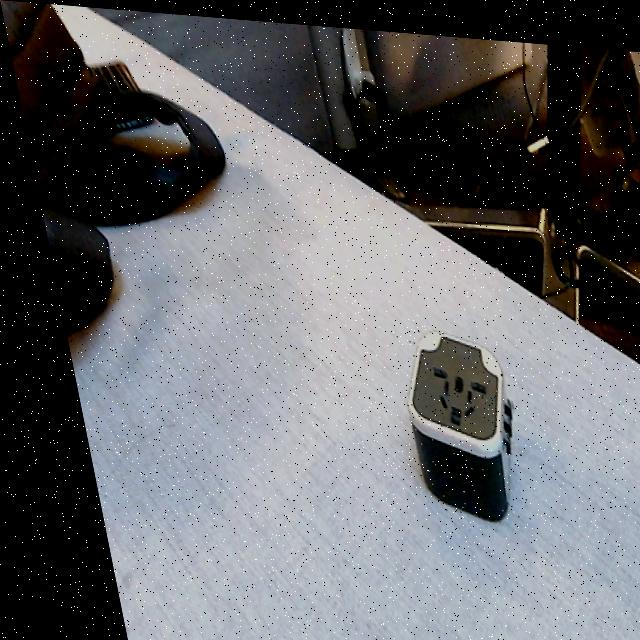adapter: (379, 319, 517, 517)
